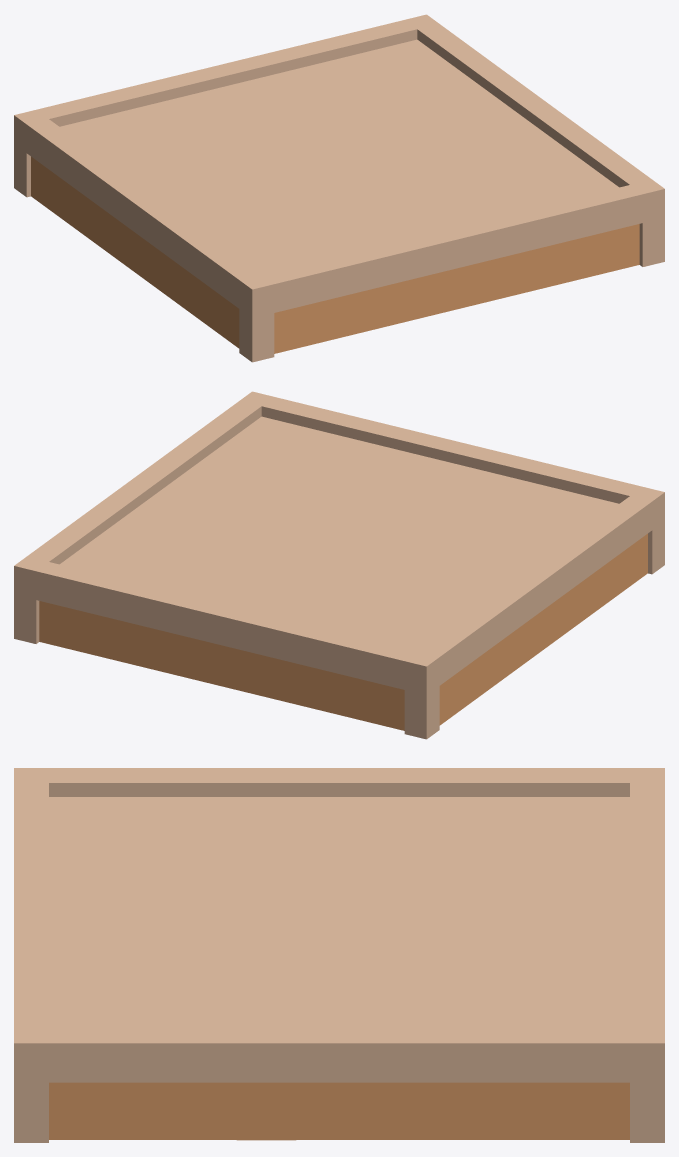
File: SkyScraper2_Top_01.fbx
3 views of the same model, one above another, from view 1: azimuth 30°, elevation 25°; view 2: azimuth 150°, elevation 25°; view 3: azimuth 270°, elevation 25° (orthographic). The views are drawn at different scales.
Visible parts, largest first — view 1: SkyScraper2_Top; view 2: SkyScraper2_Top; view 3: SkyScraper2_Top.
Boxes of the visible parts, x1=… form: SkyScraper2_Top: x1=14, y1=14, x2=664, y2=362; SkyScraper2_Top: x1=14, y1=391, x2=664, y2=739; SkyScraper2_Top: x1=14, y1=768, x2=664, y2=1142.
Bounding box in the file's own units: 96 × 16.24 × 96.
